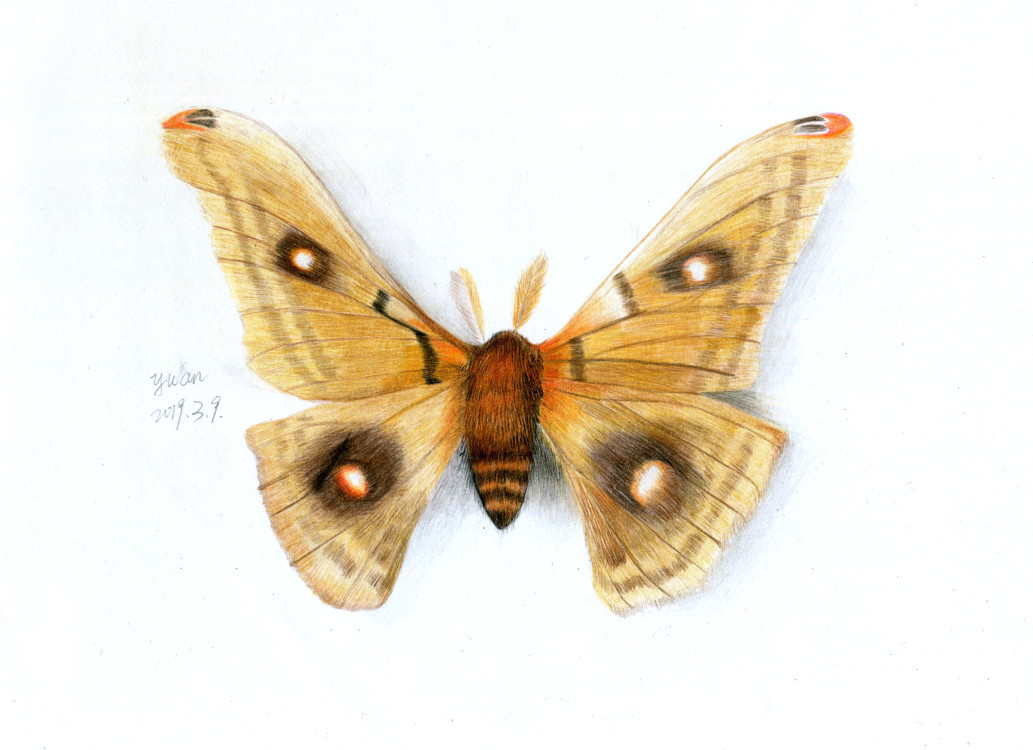feie: (170, 101, 847, 600)
